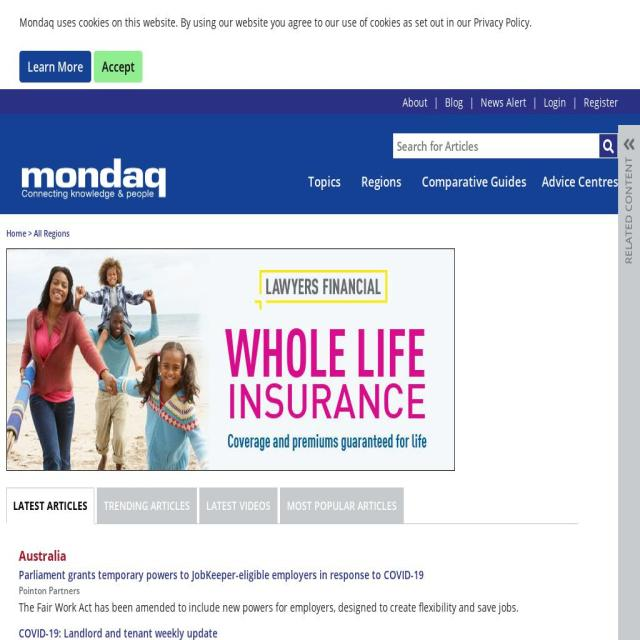button: (6, 248, 455, 471), (22, 158, 166, 204), (409, 164, 526, 198), (530, 164, 618, 198), (19, 51, 92, 82), (349, 164, 406, 198), (296, 164, 346, 198), (94, 51, 142, 82)
field: (393, 133, 599, 159)
image: (6, 248, 455, 471), (22, 158, 166, 200), (603, 134, 614, 157)
link: (19, 566, 424, 582), (19, 625, 218, 640), (481, 93, 526, 110), (584, 93, 618, 110), (402, 93, 428, 110), (34, 227, 70, 239), (544, 93, 566, 110), (445, 93, 463, 110), (6, 227, 26, 239)
text: (19, 7, 532, 38), (18, 598, 566, 624), (18, 545, 566, 566), (18, 584, 566, 598), (280, 488, 404, 524), (97, 488, 197, 524), (6, 488, 94, 524), (200, 488, 278, 524), (622, 153, 634, 264), (362, 171, 406, 191), (308, 171, 346, 191), (526, 92, 538, 111), (566, 92, 578, 111), (428, 92, 438, 111), (464, 92, 474, 111)
